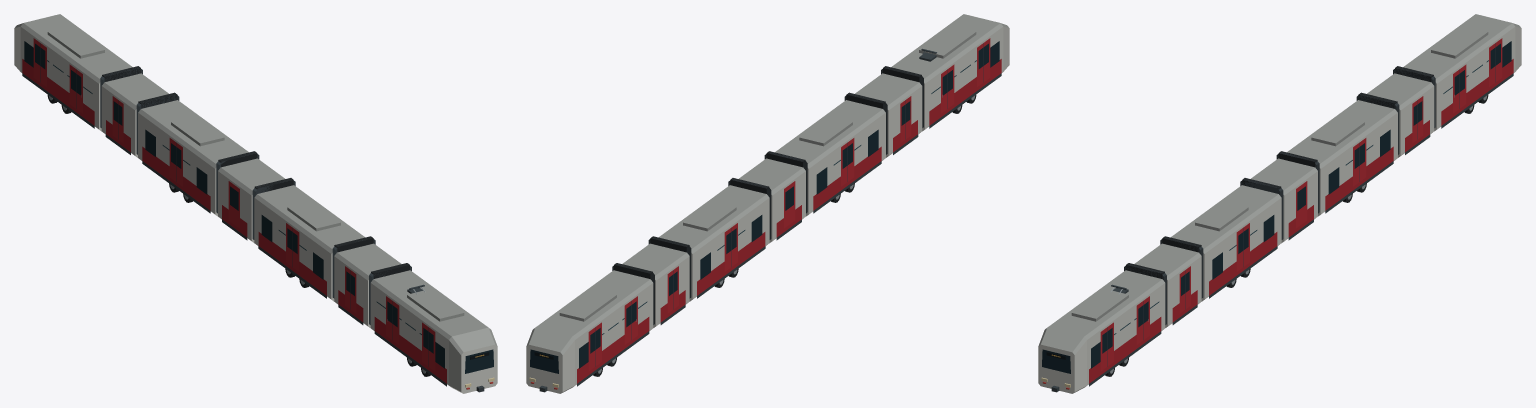
File: tram-vip-tramlink.glb
The picture shows the model from 3 angles, left to right: view 1: azimuth 30°, elevation 25°; view 2: azimuth 150°, elevation 25°; view 3: azimuth 330°, elevation 25°; orthographic projection.
Visible parts, largest first — view 1: tram-vip-tramlink.segment-01.005, tram-vip-tramlink.segment-03.005, tram-vip-tramlink.segment-05.005, tram-vip-tramlink.segment-07.005, tram-vip-tramlink.segment-04.005, tram-vip-tramlink.segment-02.005, tram-vip-tramlink.segment-06.005; view 2: tram-vip-tramlink.segment-07.005, tram-vip-tramlink.segment-01.005, tram-vip-tramlink.segment-05.005, tram-vip-tramlink.segment-03.005, tram-vip-tramlink.segment-02.005, tram-vip-tramlink.segment-06.005, tram-vip-tramlink.segment-04.005; view 3: tram-vip-tramlink.segment-01.005, tram-vip-tramlink.segment-03.005, tram-vip-tramlink.segment-05.005, tram-vip-tramlink.segment-07.005, tram-vip-tramlink.segment-04.005, tram-vip-tramlink.segment-02.005, tram-vip-tramlink.segment-06.005.
Part boxes in pixels (<box>): tram-vip-tramlink.segment-01.005: <box>369,263,497,393</box>; tram-vip-tramlink.segment-03.005: <box>252,178,365,301</box>; tram-vip-tramlink.segment-05.005: <box>136,92,248,216</box>; tram-vip-tramlink.segment-07.005: <box>14,14,132,131</box>; tram-vip-tramlink.segment-04.005: <box>216,151,284,242</box>; tram-vip-tramlink.segment-02.005: <box>332,236,401,327</box>; tram-vip-tramlink.segment-06.005: <box>100,66,168,157</box>; tram-vip-tramlink.segment-07.005: <box>526,270,653,393</box>; tram-vip-tramlink.segment-01.005: <box>881,14,1009,131</box>; tram-vip-tramlink.segment-05.005: <box>648,185,769,301</box>; tram-vip-tramlink.segment-03.005: <box>764,100,885,216</box>; tram-vip-tramlink.segment-02.005: <box>844,73,922,157</box>; tram-vip-tramlink.segment-06.005: <box>612,243,689,327</box>; tram-vip-tramlink.segment-04.005: <box>728,158,805,242</box>; tram-vip-tramlink.segment-01.005: <box>1038,263,1166,393</box>; tram-vip-tramlink.segment-03.005: <box>1170,178,1283,301</box>; tram-vip-tramlink.segment-05.005: <box>1287,92,1399,216</box>; tram-vip-tramlink.segment-07.005: <box>1403,14,1521,131</box>; tram-vip-tramlink.segment-04.005: <box>1251,151,1319,242</box>; tram-vip-tramlink.segment-02.005: <box>1134,236,1203,327</box>; tram-vip-tramlink.segment-06.005: <box>1367,66,1435,157</box>.
Bounding box in the file's own units: 2.35 × 3.45 × 42.44.
